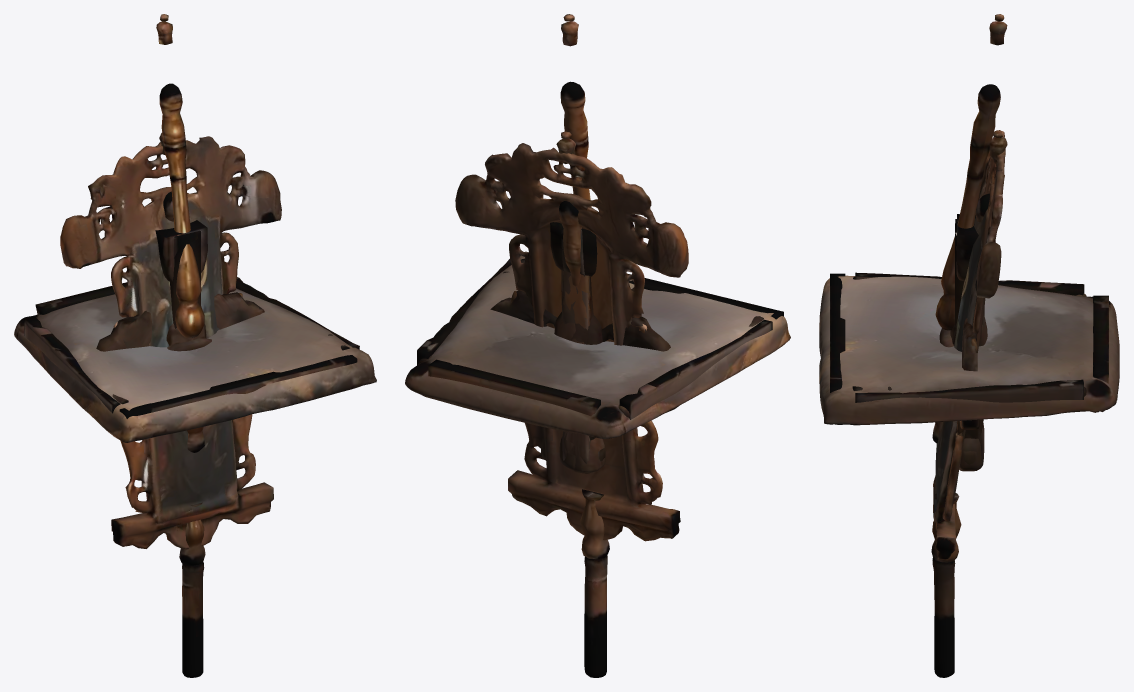
The picture shows the model from 3 angles, left to right: view 1: azimuth 30°, elevation 25°; view 2: azimuth 150°, elevation 25°; view 3: azimuth 270°, elevation 25°; orthographic projection. The views are drawn at different scales.
Visible parts, largest first — view 1: root.1, root.0, root.7, root.2, root.3, root.10, root.6, root.8; view 2: root.1, root.0, root.2, root.7, root.10, root.3, root.5, root.6, root.8, root.9; view 3: root.0, root.1, root.2, root.7, root.5, root.10, root.3, root.6.
Part boxes in pixels (x1,y1,x2,y2): root.1: (60,136,281,549); root.0: (14,288,376,442); root.7: (156,14,204,677); root.2: (24,277,359,418); root.3: (96,292,264,351); root.10: (159,132,205,565); root.6: (155,228,191,345); root.8: (170,232,197,328); root.1: (455,143,688,541); root.0: (405,251,790,438); root.2: (417,258,783,419); root.7: (560,14,607,677); root.10: (556,131,609,559); root.3: (490,290,679,412); root.5: (550,222,605,472); root.6: (559,228,605,473); root.8: (562,271,593,463); root.9: (561,270,589,457); root.0: (819,275,1119,425); root.1: (933,131,1005,559); root.2: (830,272,1108,402); root.7: (932,14,1007,677); root.5: (950,220,987,471); root.10: (931,130,1007,562); root.3: (960,318,979,429); root.6: (950,214,987,470).
Bounding box in the file's own units: 15919 × 38179 × 15769.
1 material, 1 textured.
